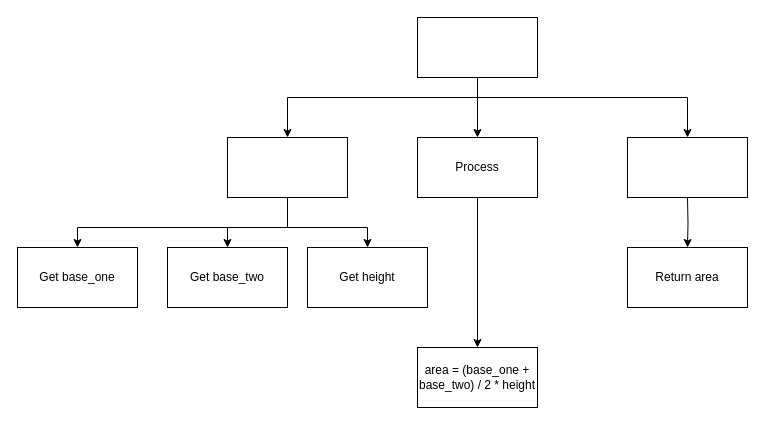
Image size: 765x425. Some labels were removed from this diagram. Here are the shapes that lost their labels. From the top down, the box of each, then its label:
(416, 16, 538, 78): Area of a trapezoid
(226, 136, 348, 198): Input
(626, 136, 748, 198): Output
